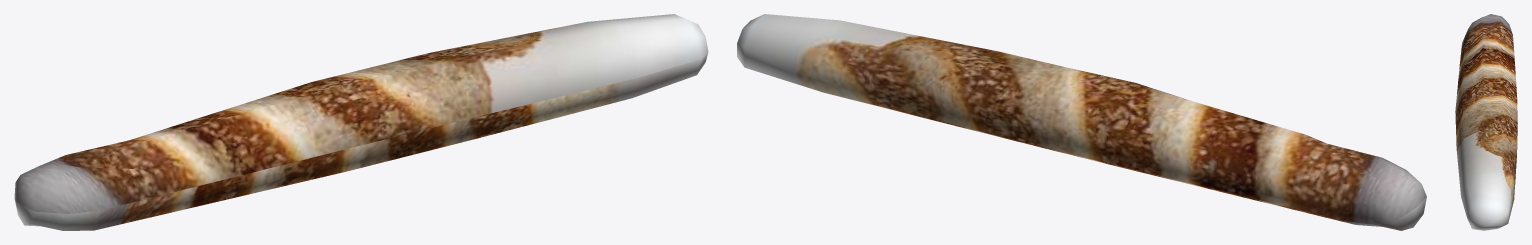
Rendered from Product_bread_02.FBX.
3 views of the same model, side by side, from view 1: azimuth 30°, elevation 25°; view 2: azimuth 150°, elevation 25°; view 3: azimuth 270°, elevation 25° (orthographic). The views are drawn at different scales.
Parts seen in each view (by area): view 1: product_bread_02_LOD00; view 2: product_bread_02_LOD00; view 3: product_bread_02_LOD00.
Boxes of the visible parts, x1,y1,x2,y2 form: product_bread_02_LOD00: (14, 14, 708, 230); product_bread_02_LOD00: (737, 14, 1426, 230); product_bread_02_LOD00: (1455, 14, 1517, 230).
Size of what is drawn, in the model's own units: 0.8586 by 0.0928 by 0.1143.
